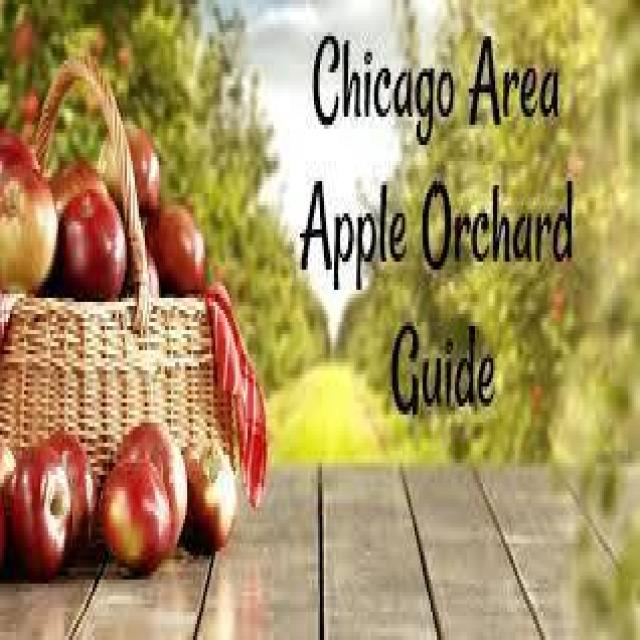maca: (0, 52, 268, 576), (183, 435, 238, 547)
